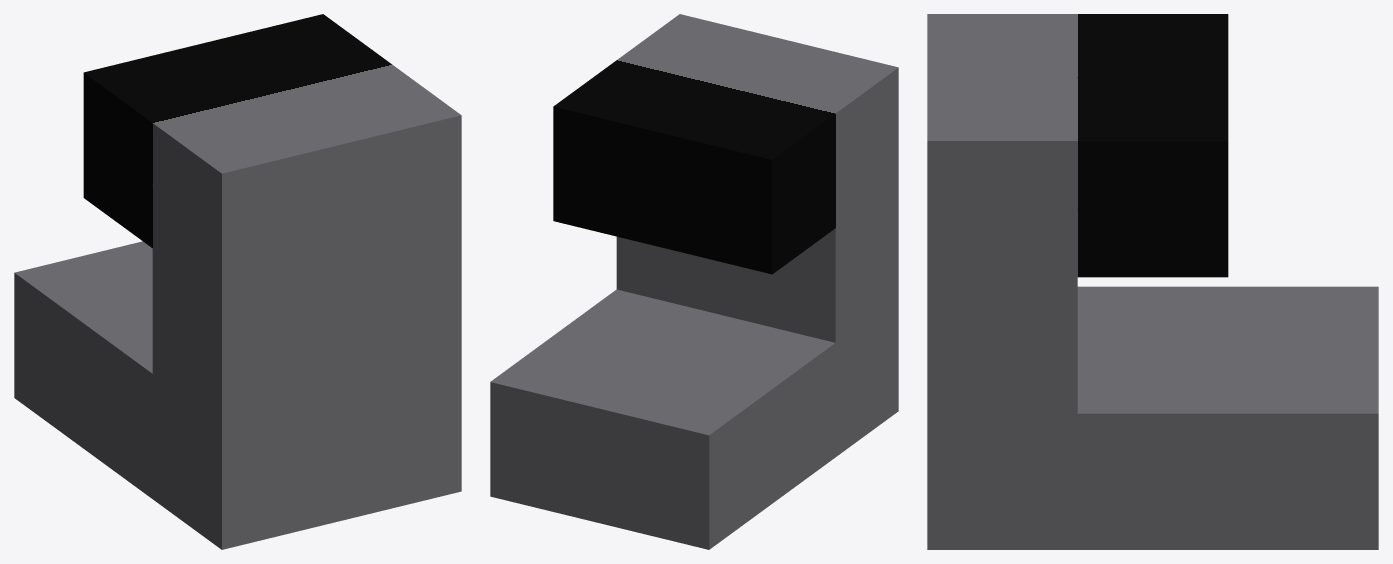
Rendered from Hook.dae.
The picture shows the model from 3 angles, left to right: view 1: azimuth 30°, elevation 25°; view 2: azimuth 150°, elevation 25°; view 3: azimuth 270°, elevation 25°; orthographic projection. The views are drawn at different scales.
Parts seen in each view (by area): view 1: Hook; view 2: Hook; view 3: Hook.
Boxes of the visible parts, <box> form: Hook: <box>14,14,461,549</box>; Hook: <box>490,14,898,549</box>; Hook: <box>927,14,1378,549</box>.
Size of the model in its own units: 2 by 3 by 3.
Materials: 1 (1 with a texture image).
